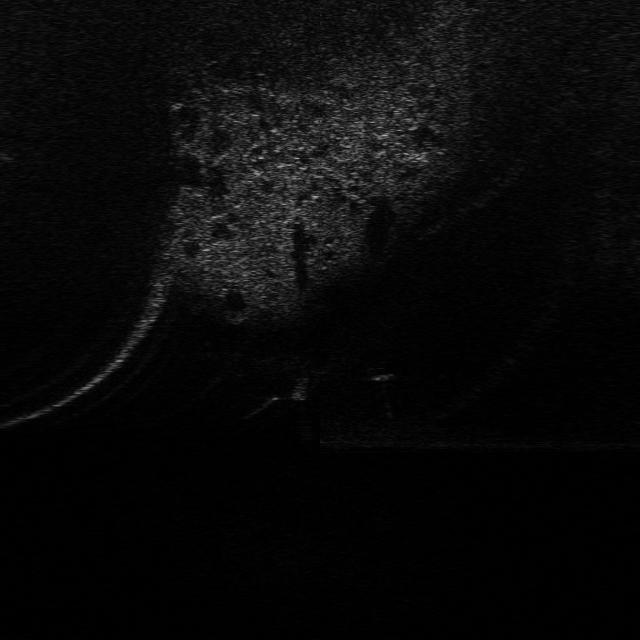cube: (360, 354, 400, 384)
cylinder: (286, 370, 316, 402)
